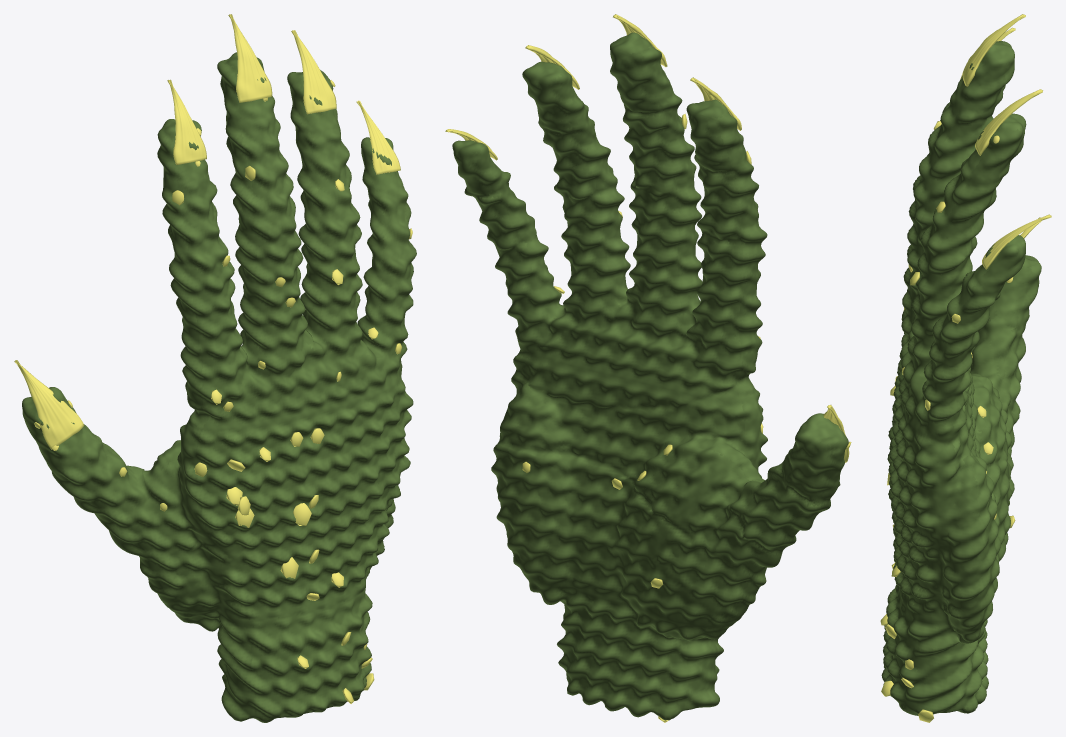
The model's file is family-04.glb.
3 renders of one model, left to right at view 1: azimuth 30°, elevation 25°; view 2: azimuth 150°, elevation 25°; view 3: azimuth 270°, elevation 25°, orthographic. The views are drawn at different scales.
Parts seen in each view (by area): view 1: fingers__fingers_sculpt, back_of_hand__back_of_hand_sculpt, wrist__wrist_sculpt, fingertips__fingertips_sculpt, back_of_hand, nails__thumb_claw, palm__palm_sculpt, nails__middle_claw, nails__ring_claw, nails__index_claw, fingers, nails__pinky_claw; view 2: fingers__fingers_sculpt, palm__palm_sculpt, wrist__wrist_sculpt, fingertips__fingertips_sculpt; view 3: fingers__fingers_sculpt, palm__palm_sculpt, wrist__wrist_sculpt, back_of_hand__back_of_hand_sculpt, fingertips__fingertips_sculpt, nails__middle_claw, nails__ring_claw, wrist, nails__pinky_claw, fingers.
Part boxes in pixels (box(x1,y1,x2,y2)): fingers__fingers_sculpt: box(49, 114, 416, 603); back_of_hand__back_of_hand_sculpt: box(182, 377, 413, 620); wrist__wrist_sculpt: box(173, 569, 372, 722); fingertips__fingertips_sculpt: box(22, 52, 403, 467); back_of_hand: box(194, 428, 343, 600); nails__thumb_claw: box(14, 360, 84, 449); palm__palm_sculpt: box(163, 422, 395, 613); nails__middle_claw: box(228, 14, 272, 102); nails__ring_claw: box(291, 30, 336, 114); nails__index_claw: box(167, 79, 206, 164); fingers: box(119, 165, 412, 511); nails__pinky_claw: box(356, 100, 400, 174); fingers__fingers_sculpt: box(464, 85, 840, 618); palm__palm_sculpt: box(491, 346, 759, 628); wrist__wrist_sculpt: box(525, 576, 731, 720); fingertips__fingertips_sculpt: box(452, 32, 848, 496); fingers__fingers_sculpt: box(898, 90, 1025, 505); palm__palm_sculpt: box(938, 367, 1010, 631); wrist__wrist_sculpt: box(881, 570, 999, 715); back_of_hand__back_of_hand_sculpt: box(887, 368, 939, 619); fingertips__fingertips_sculpt: box(956, 41, 1041, 325); nails__middle_claw: box(962, 14, 1025, 86); nails__ring_claw: box(975, 89, 1042, 155); wrist: box(880, 614, 933, 722); nails__pinky_claw: box(982, 214, 1051, 269); fingers: box(902, 121, 972, 410).
Bounding box in the file's own units: 0.1317 × 0.2294 × 0.0531.
Materials: 2 (1 with a texture image).
